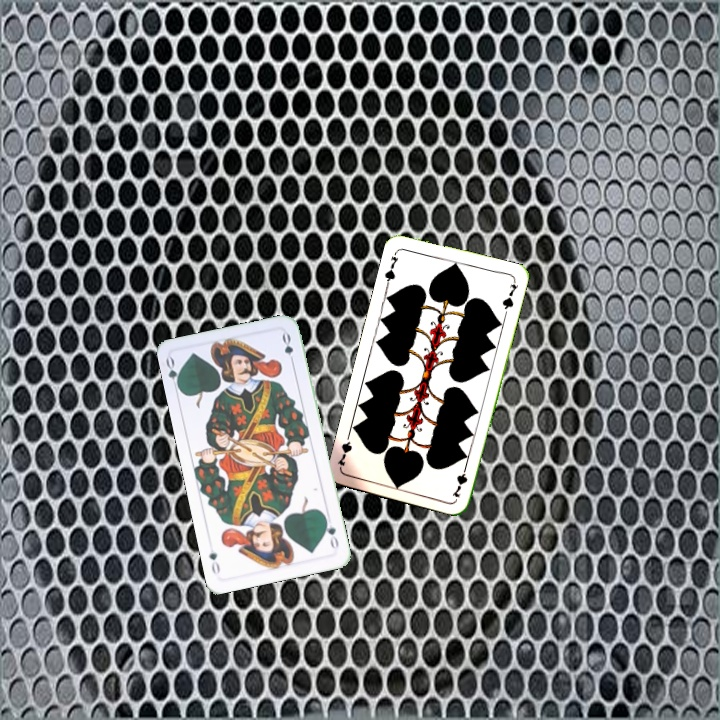G7: (448, 460, 470, 500), (380, 247, 401, 287)
GO: (162, 354, 183, 394), (321, 513, 341, 553)
